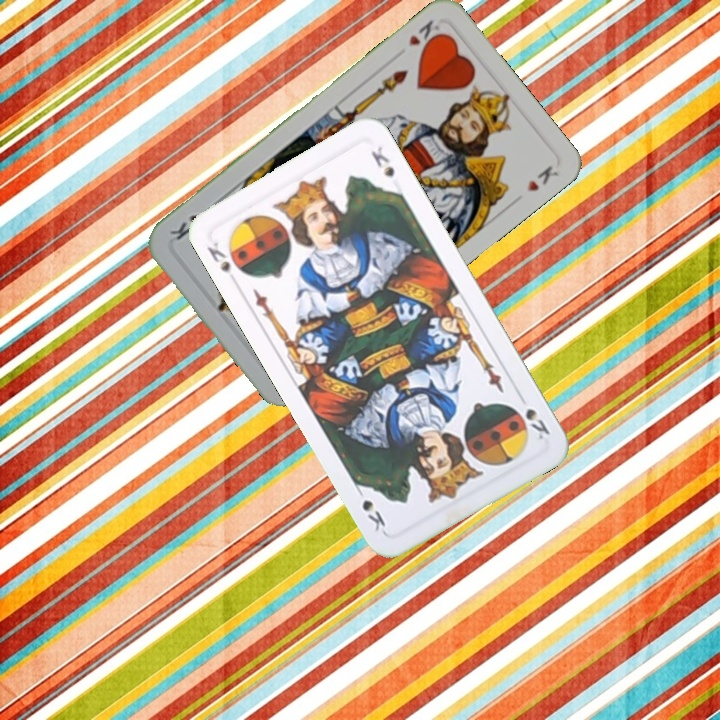HK: (404, 15, 448, 53)
SK: (509, 389, 553, 443), (203, 237, 233, 276)
